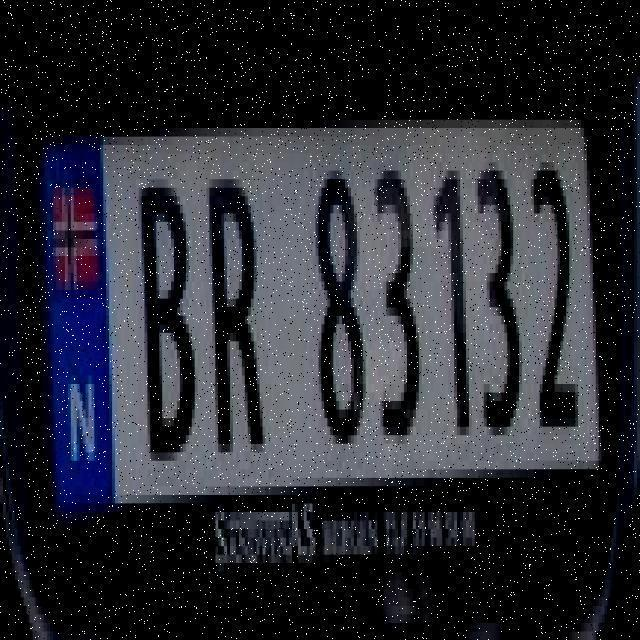LicensePlate: (18, 65, 628, 619)
